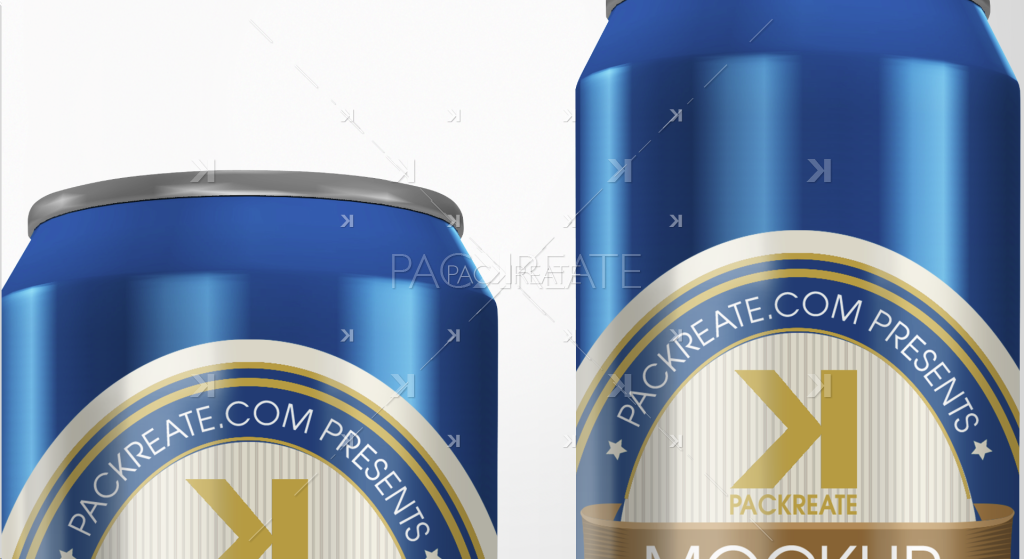beer can: (575, 2, 1021, 559), (2, 168, 497, 559)
